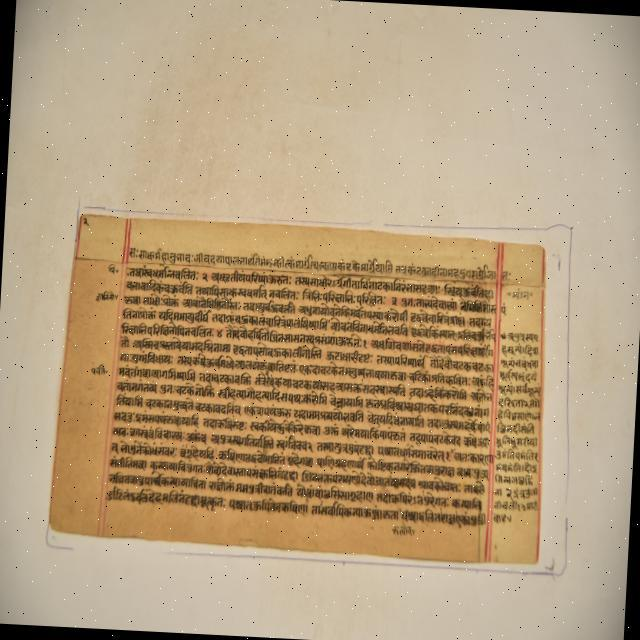text_paragraph: (48, 209, 548, 558)
